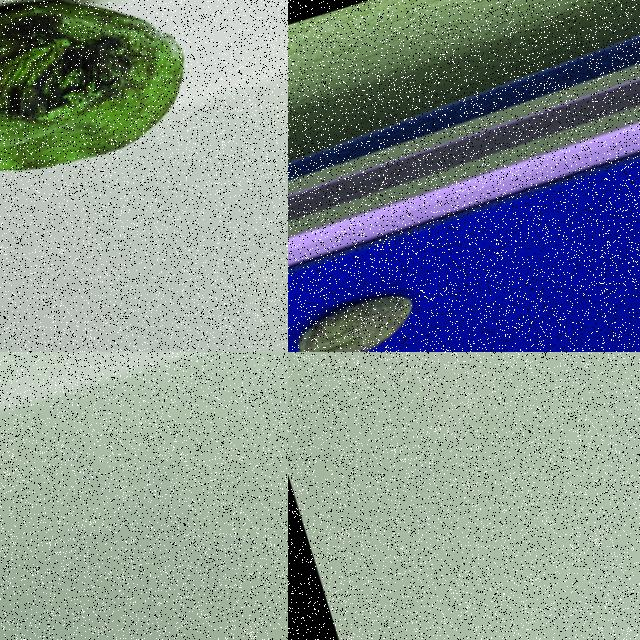Fine_cocoabeans: (0, 0, 287, 287)
Flat_cocoabeans: (288, 221, 506, 351), (0, 352, 287, 411)
